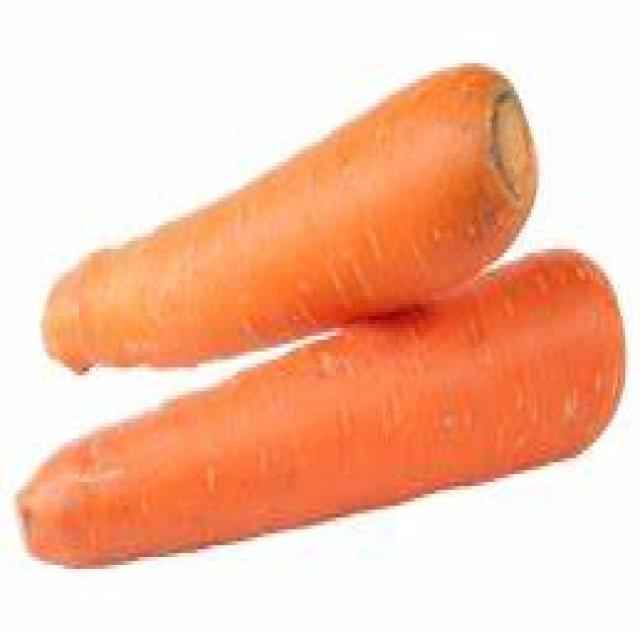Carrot: (20, 245, 628, 559), (38, 62, 539, 363)
